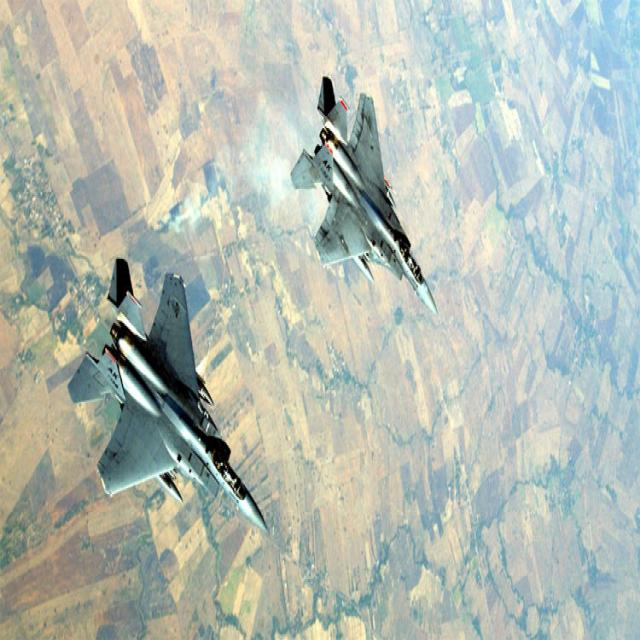MIL_Plane: (65, 257, 270, 536), (290, 74, 440, 317)
